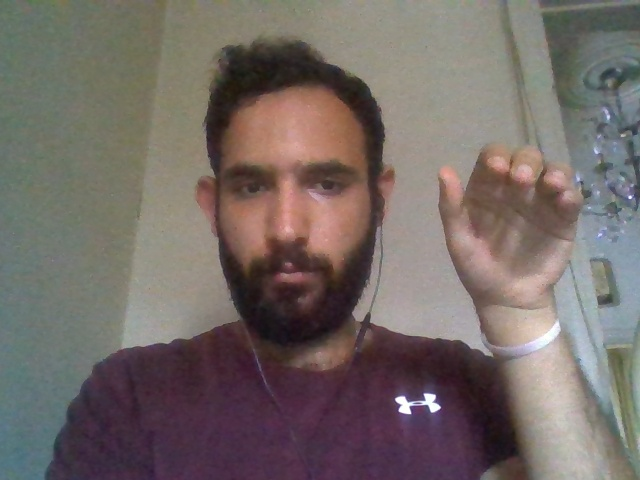Snake: (431, 120, 633, 480)
